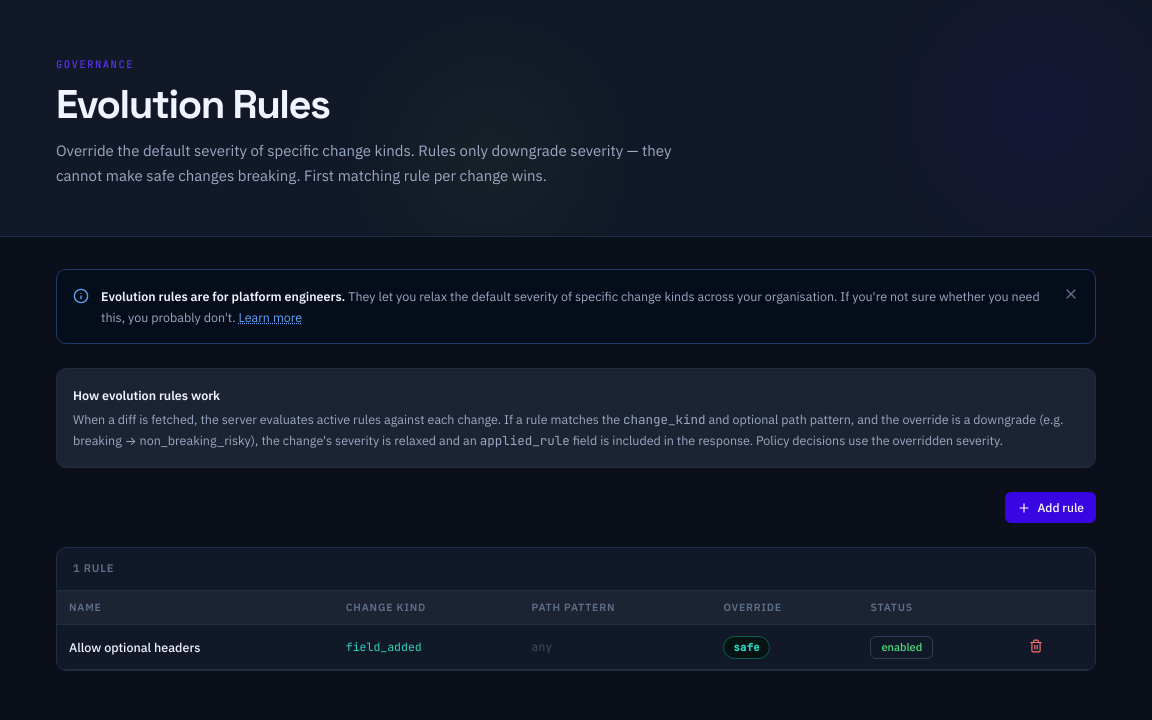
EvolutionRulesPage destructive-action safety › clears a previous action error once an action succeeds
Click the button "enabled" at (902, 647), box x1=870 y1=636 x2=933 y2=659
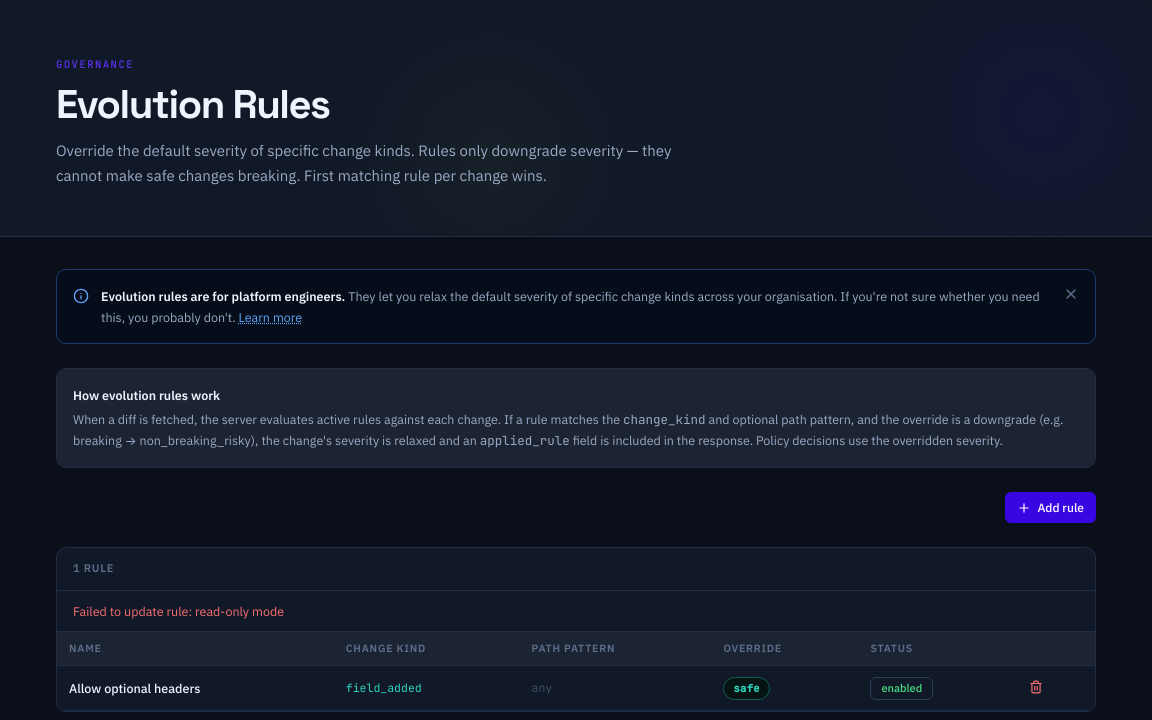
Now the text "Failed to update rule: read-only mode" is shown, box x1=57 y1=591 x2=1095 y2=632
Click the button "enabled" at (902, 688), box x1=870 y1=676 x2=933 y2=700
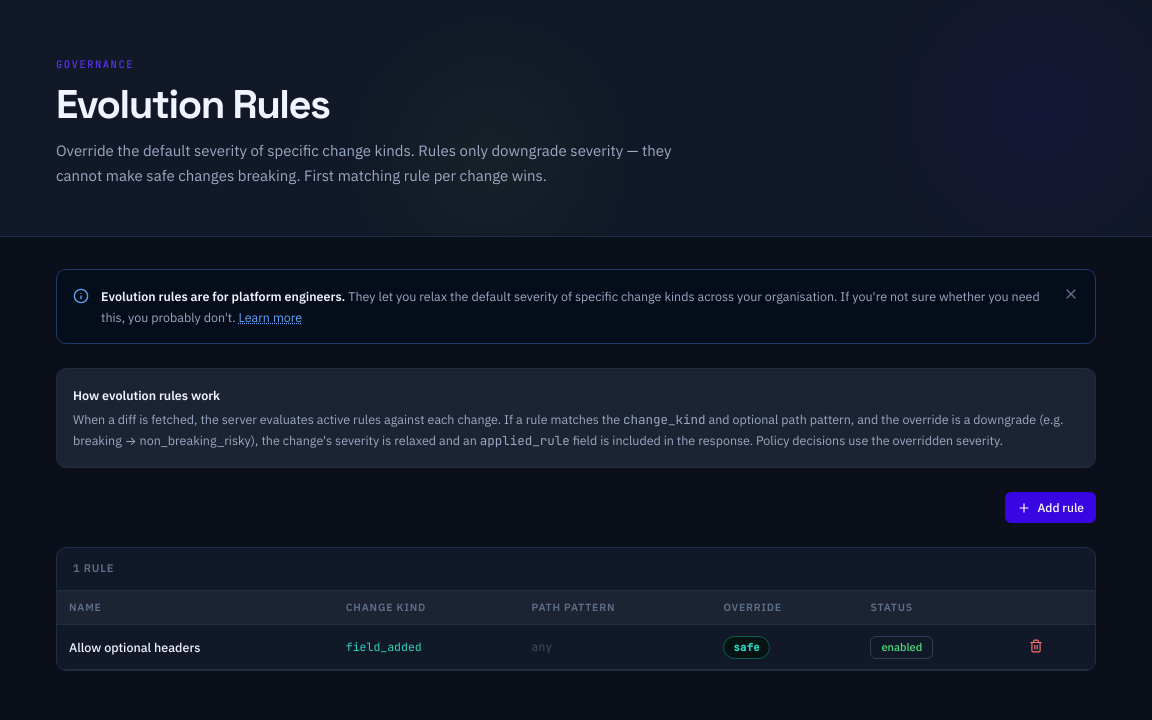
Now the text "read-only mode" is gone
